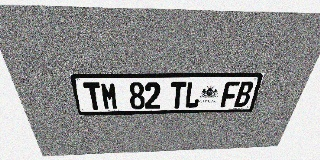2: (145, 82, 160, 109)
8: (129, 82, 145, 109)
B: (234, 81, 255, 107)
F: (220, 81, 240, 107)
L: (184, 82, 202, 108)
M: (100, 82, 119, 110)
T: (83, 82, 103, 110), (170, 82, 186, 108)
